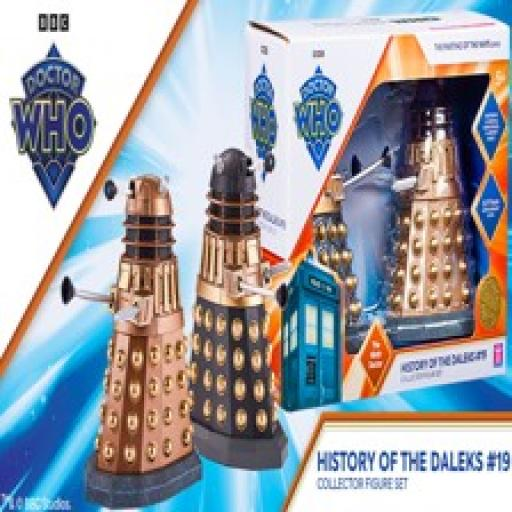dalek: (57, 172, 206, 503), (194, 146, 297, 481), (350, 94, 476, 346)
